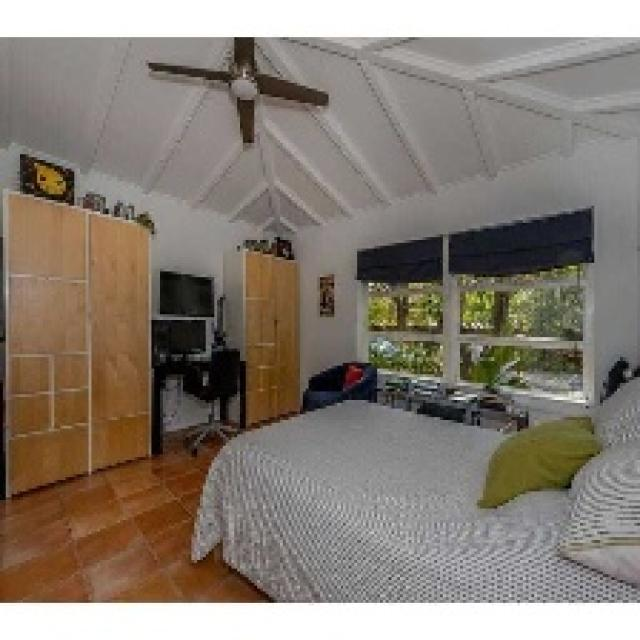Bed: (189, 354, 637, 603)
